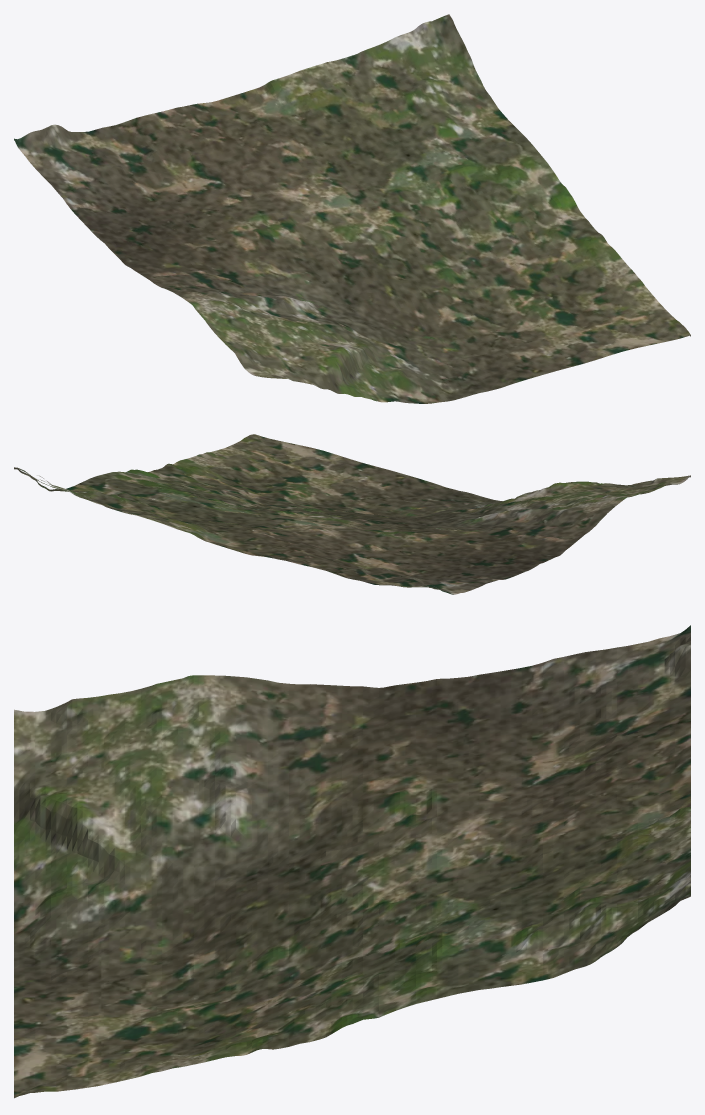
3 views of the same model, one above another, from view 1: azimuth 30°, elevation 25°; view 2: azimuth 150°, elevation 25°; view 3: azimuth 270°, elevation 25° (orthographic). The views are drawn at different scales.
Bounding box in the file's own units: 250 × 84.11 × 241.
1 material, 1 textured.
